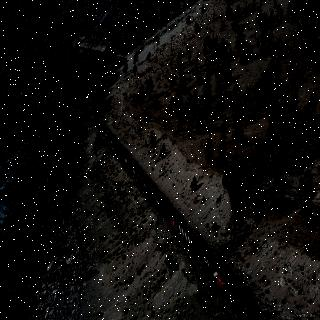poezd: (195, 245, 234, 298), (171, 216, 195, 248)
